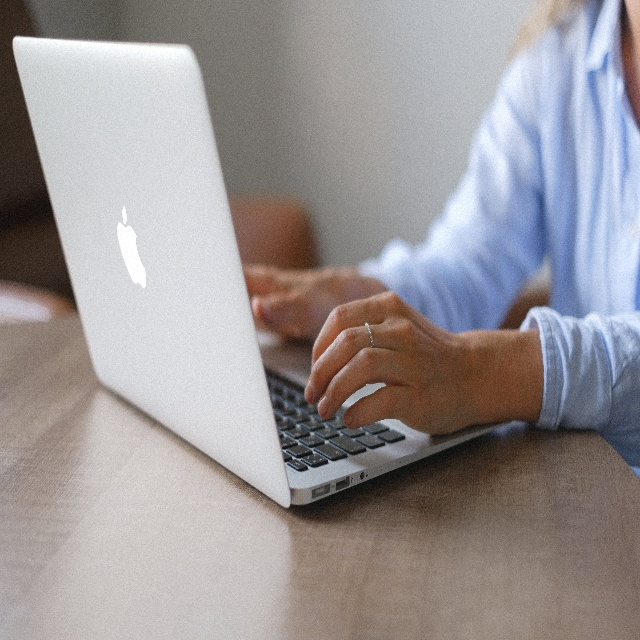Sin_guantes: (303, 289, 489, 435), (247, 253, 321, 339)
